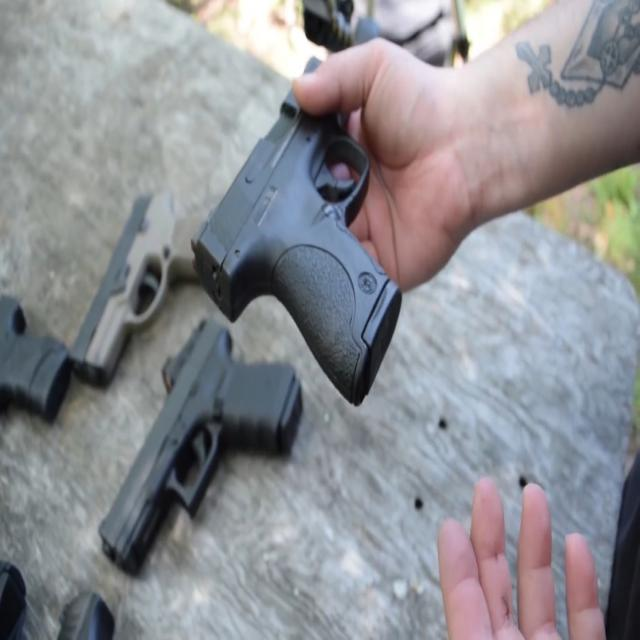handgun: (196, 63, 402, 372), (96, 301, 313, 568), (62, 166, 230, 430)
